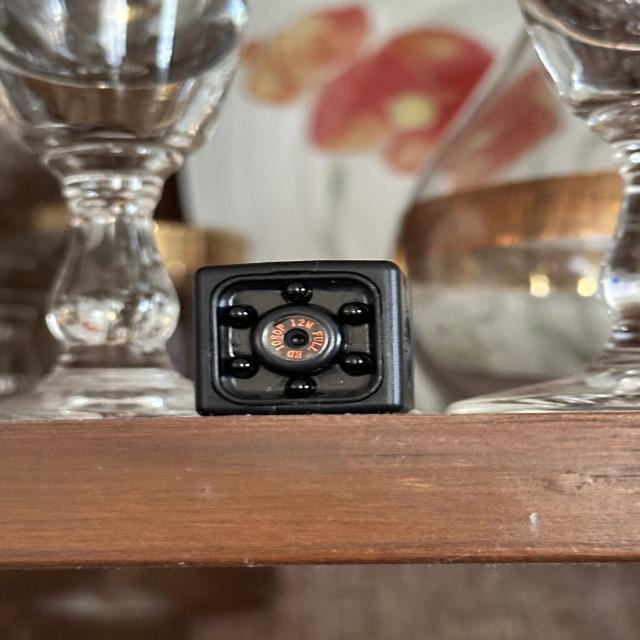hidden camera: (256, 304, 338, 367)
